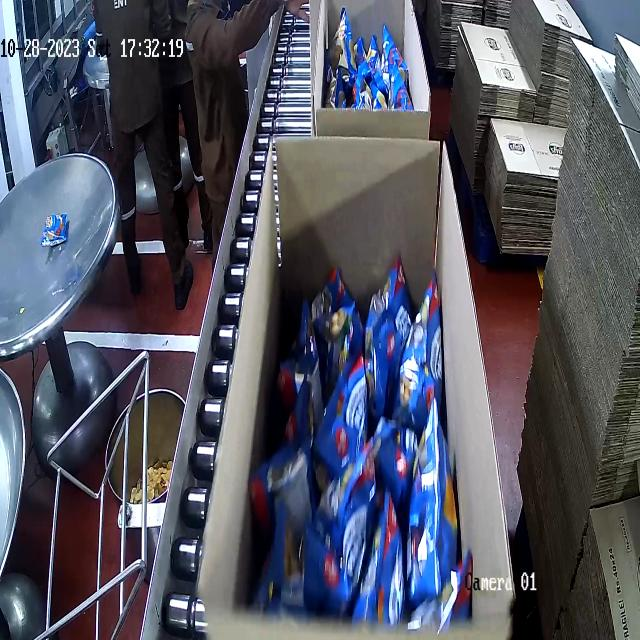PAPRIKA: (270, 260, 455, 638), (322, 22, 419, 106)
